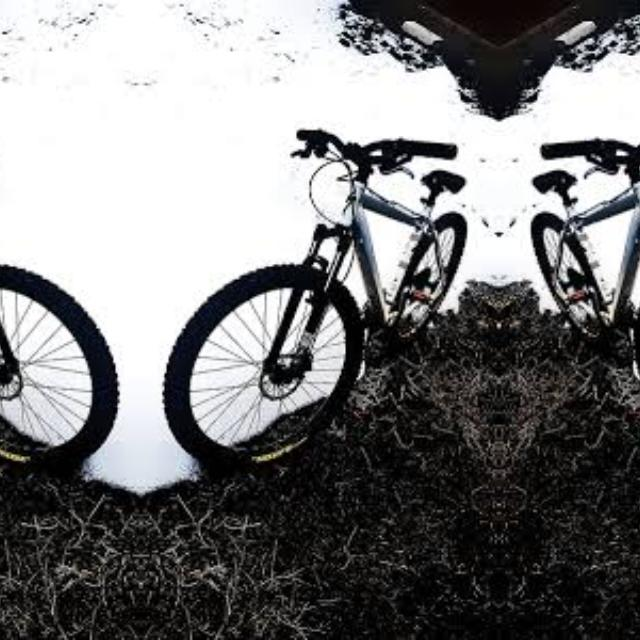obstacle: (162, 98, 498, 492), (498, 97, 640, 492), (0, 97, 118, 492)
